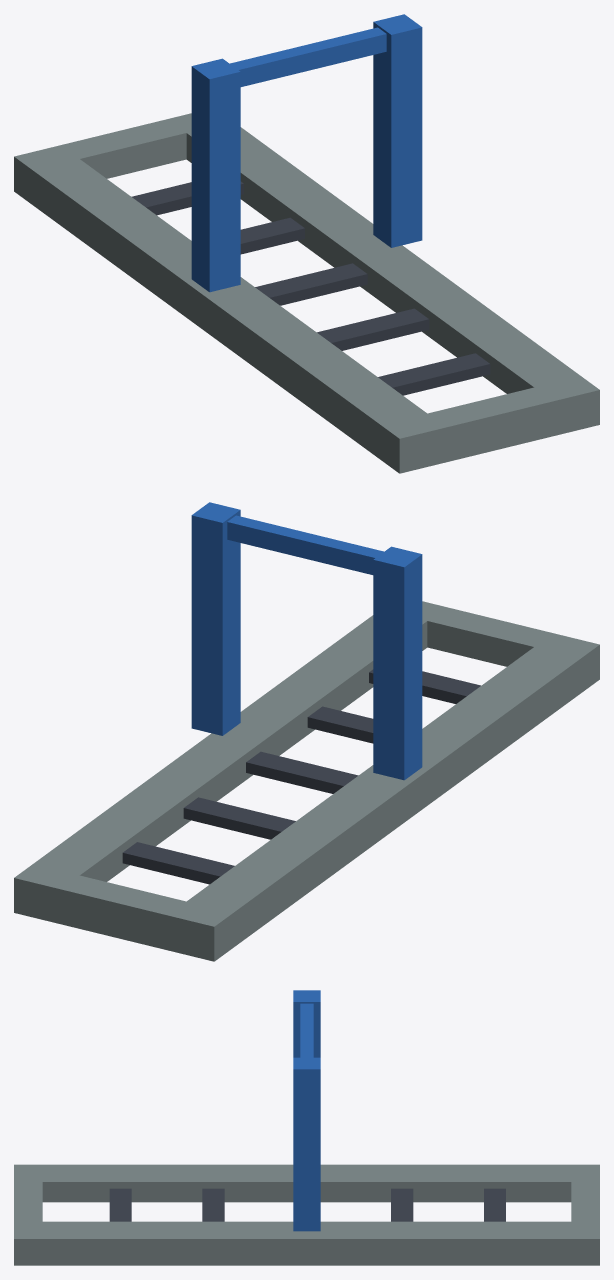
The model's file is bridge_part_02_s03.FBX.
3 renders of one model, top to bottom at view 1: azimuth 30°, elevation 25°; view 2: azimuth 150°, elevation 25°; view 3: azimuth 270°, elevation 25°, orthographic. The views are drawn at different scales.
Visible parts, largest first — view 1: bridge_part_02_s03; view 2: bridge_part_02_s03; view 3: bridge_part_02_s03.
Boxes of the visible parts, bbox=[...] form: bridge_part_02_s03: bbox=[14, 14, 599, 473]; bridge_part_02_s03: bbox=[14, 502, 599, 961]; bridge_part_02_s03: bbox=[14, 990, 599, 1265].
Size of the model in its own units: 638 by 2000 by 748.
Materials: 1 (1 with a texture image).
